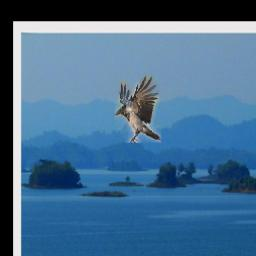Crow: (115, 74, 161, 143)
